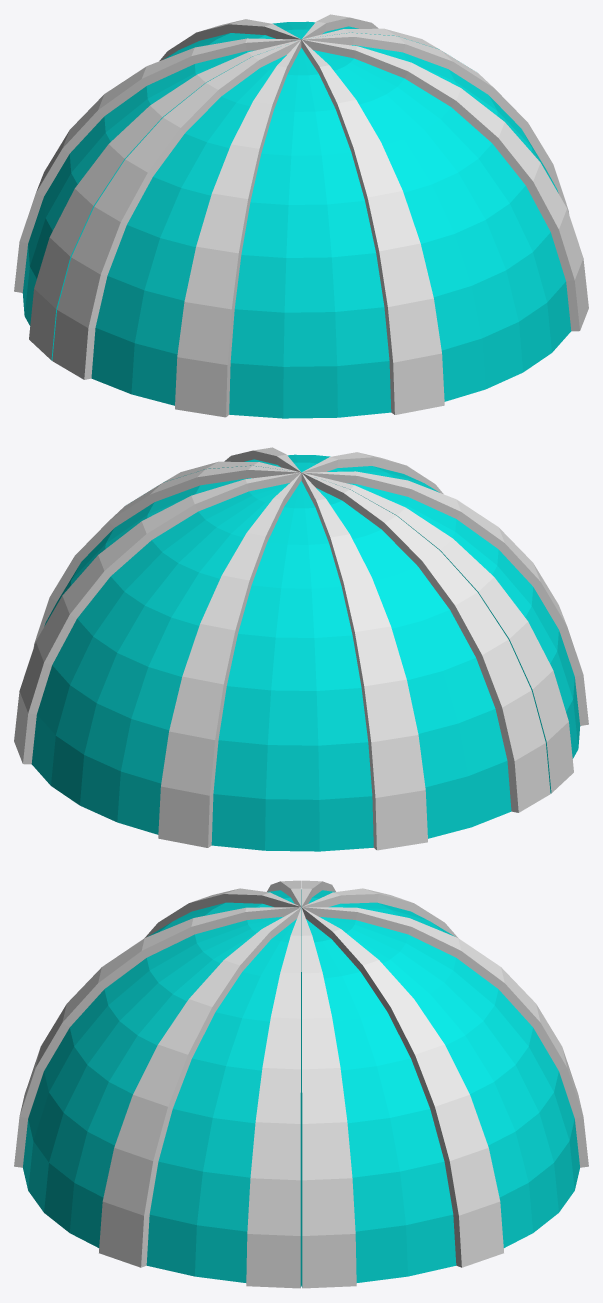
File: cúpula.fbx
3 renders of one model, top to bottom at view 1: azimuth 30°, elevation 25°; view 2: azimuth 150°, elevation 25°; view 3: azimuth 270°, elevation 25°, orthographic.
Parts seen in each view (by area): view 1: Sphere; view 2: Sphere; view 3: Sphere.
Part boxes in pixels (bbox=[...]): Sphere: bbox=[14, 14, 588, 418]; Sphere: bbox=[14, 447, 588, 851]; Sphere: bbox=[14, 880, 588, 1288].
Bounding box in the file's own units: 628 × 314 × 628.
